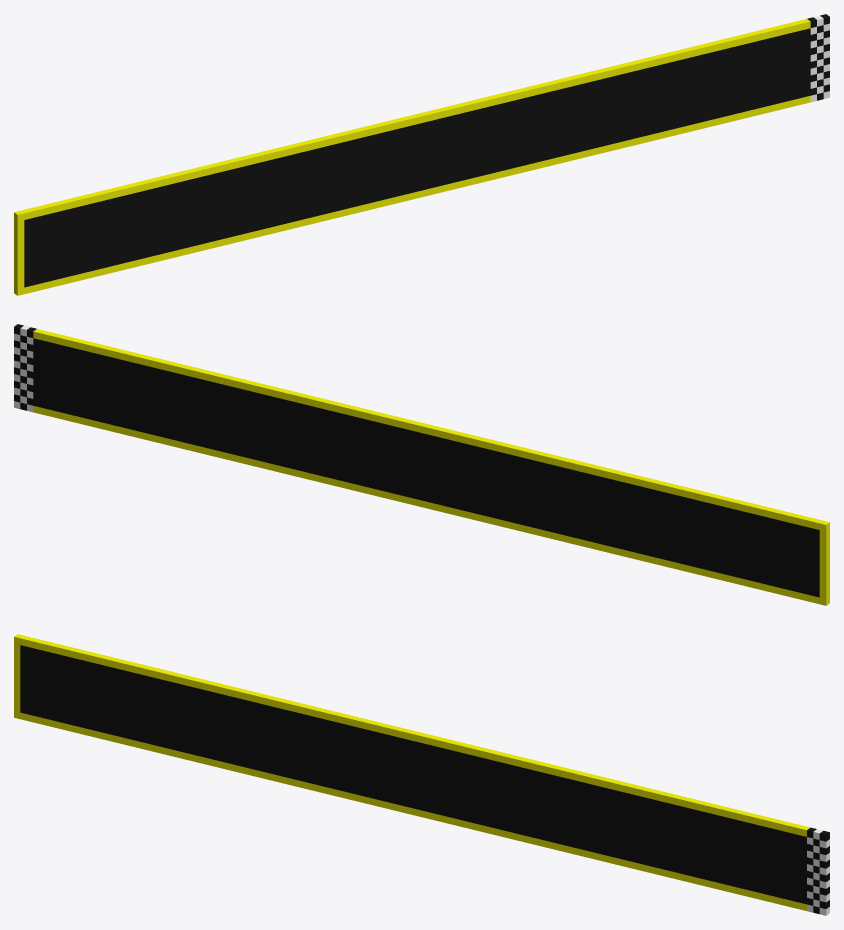
Rendered from progress_container.obj.
3 views of the same model, one above another, from view 1: azimuth 30°, elevation 25°; view 2: azimuth 150°, elevation 25°; view 3: azimuth 330°, elevation 25° (orthographic).
Visible parts, largest first — view 1: progress_container; view 2: progress_container; view 3: progress_container.
Boxes of the visible parts, bbox=[...] form: progress_container: bbox=[14, 14, 829, 295]; progress_container: bbox=[14, 324, 829, 605]; progress_container: bbox=[14, 634, 829, 915].
Size of the model in its own units: 126 by 12 by 1.
1 material, 1 textured.
